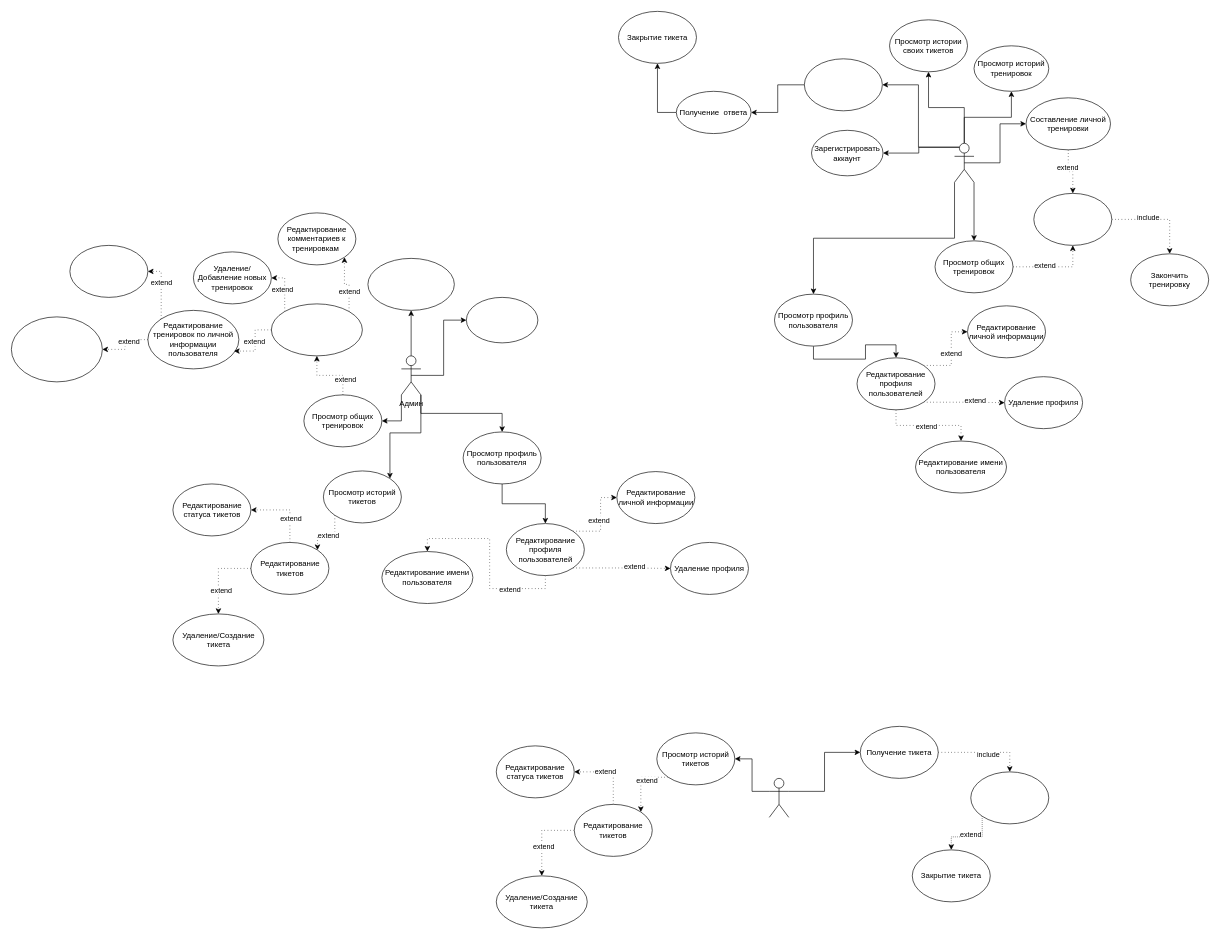
The diagram is 1220 pixels wide and 939 high, and some of its shapes have lost their labels. The box of each missing label's shape, as (x1, y1, x2, y2) in pixels:
Блокирование/Разблокирование аккаунта: (367, 258, 454, 310)
Зарегистрировать аккаунт тех.поддержке: (466, 297, 538, 343)
Начать тренировку: (1033, 193, 1112, 245)
Обрабатывание тикета: (970, 771, 1049, 824)
Отркытие тикета: (804, 58, 882, 111)
Пользователь: (954, 143, 974, 182)
Редактирование каталога тренировок: (271, 303, 362, 356)
Редактирование кол-во подходов и кол-во повторений: (11, 316, 102, 382)
Редактирование сложности тренировки: (69, 245, 148, 297)
Тех.Поддержка: (769, 778, 789, 817)
